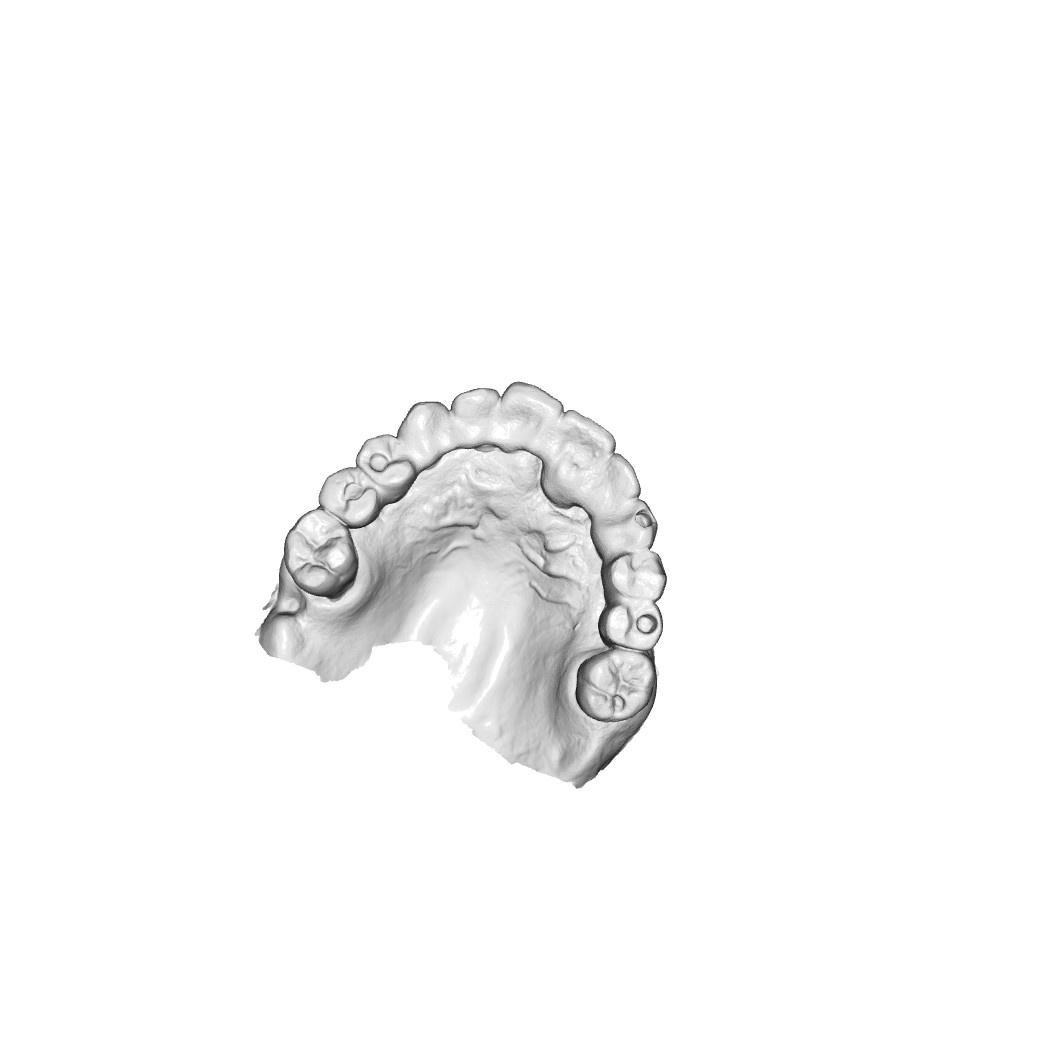canine: (605, 498, 660, 556), (404, 398, 448, 458)
incisor: (501, 384, 561, 458), (445, 386, 498, 454), (554, 411, 614, 470), (580, 458, 638, 510)
molar: (287, 513, 357, 591), (584, 651, 649, 714)
premolar: (361, 438, 414, 500), (321, 469, 375, 521), (606, 601, 664, 648), (609, 554, 665, 600)
